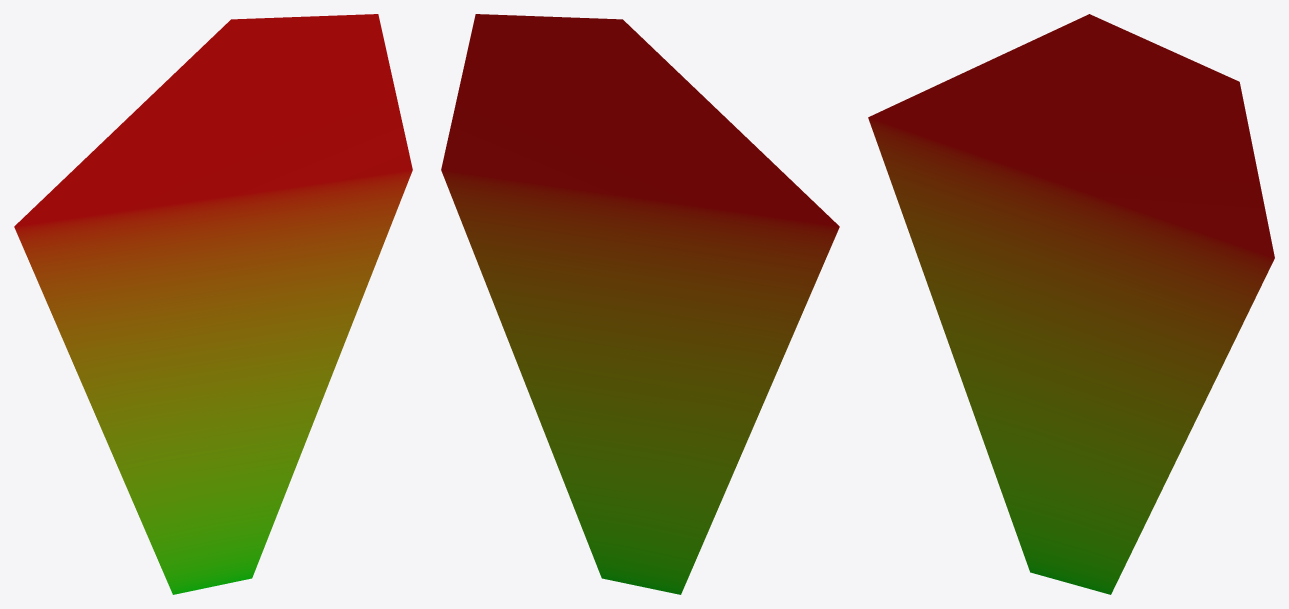
The model's file is Var6_LOD5.fbx.
3 views of the same model, side by side, from view 1: azimuth 30°, elevation 25°; view 2: azimuth 150°, elevation 25°; view 3: azimuth 330°, elevation 25° (orthographic). The views are drawn at different scales.
Parts seen in each view (by area): view 1: _wxkc_Var6_LOD5; view 2: _wxkc_Var6_LOD5; view 3: _wxkc_Var6_LOD5.
Part boxes in pixels (<box>): _wxkc_Var6_LOD5: <box>14,14,412,594</box>; _wxkc_Var6_LOD5: <box>441,14,839,594</box>; _wxkc_Var6_LOD5: <box>868,14,1274,594</box>.
Bounding box in the file's own units: 21.39 × 28.92 × 3.45e-06.
